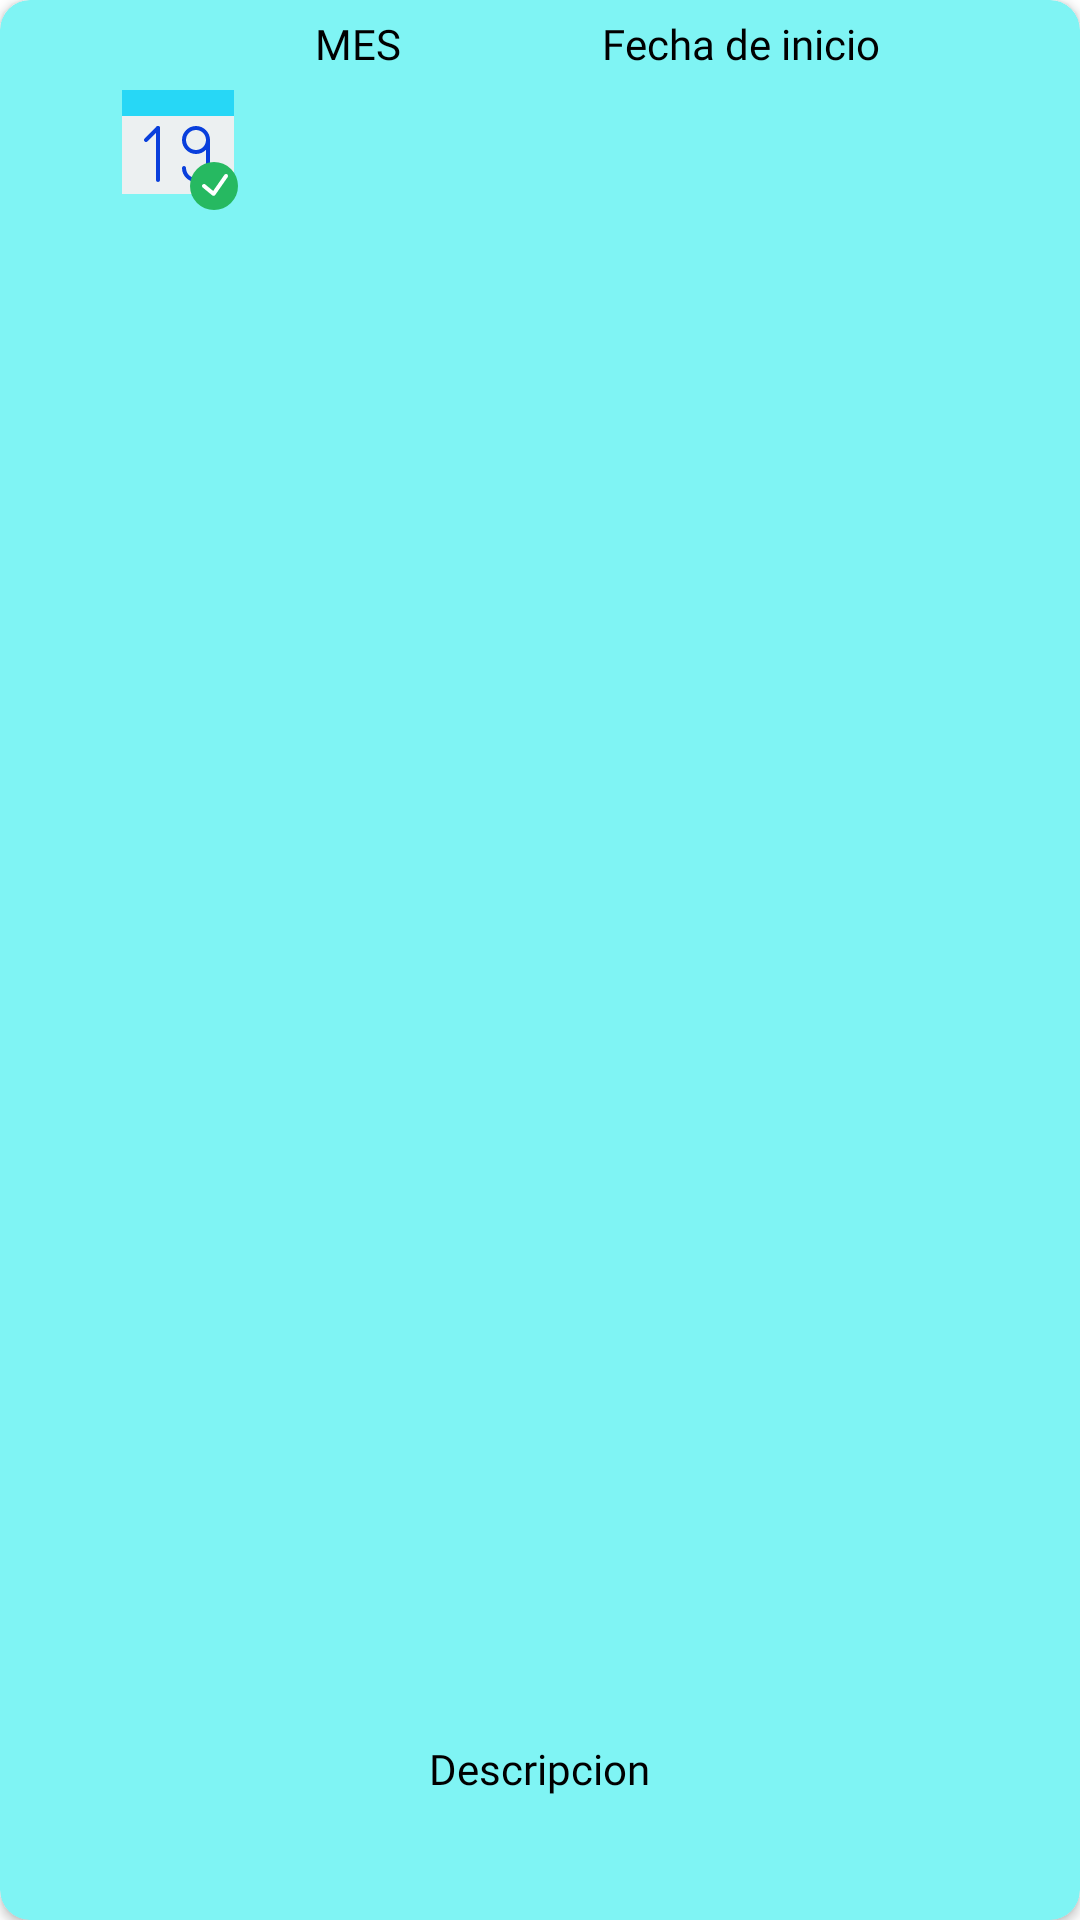

Icons on this 1080 × 1920 Android screen, each with its box as detection(x1, y1, x2, y2):
calendar: detection(122, 90, 238, 210)
